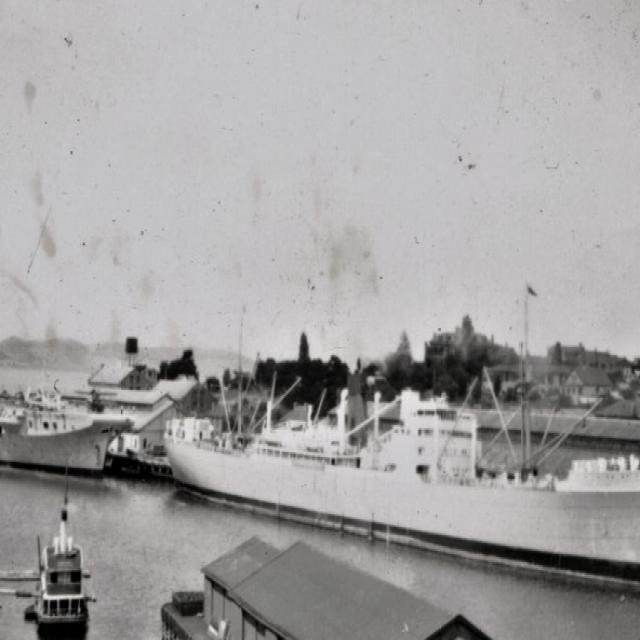Portanaves: (1, 301, 136, 492)
